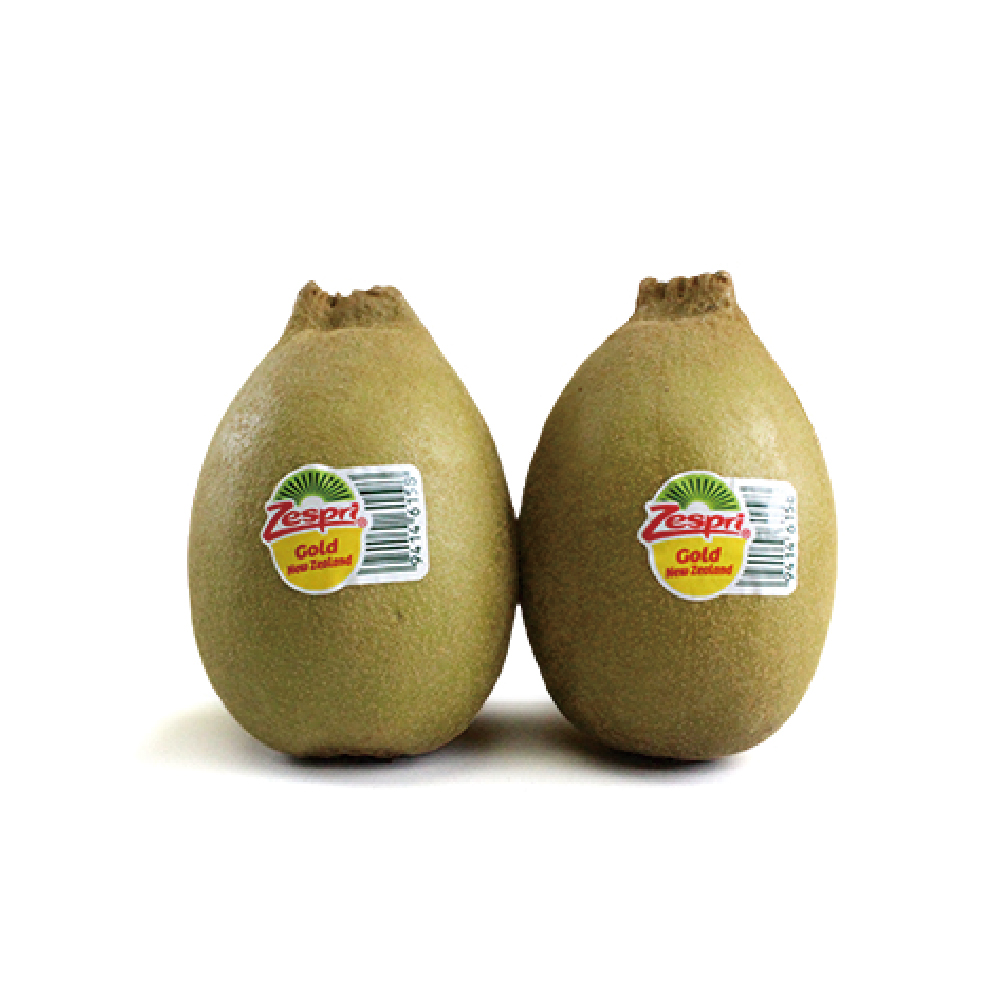kiwi: (187, 278, 518, 760), (518, 273, 837, 762)
